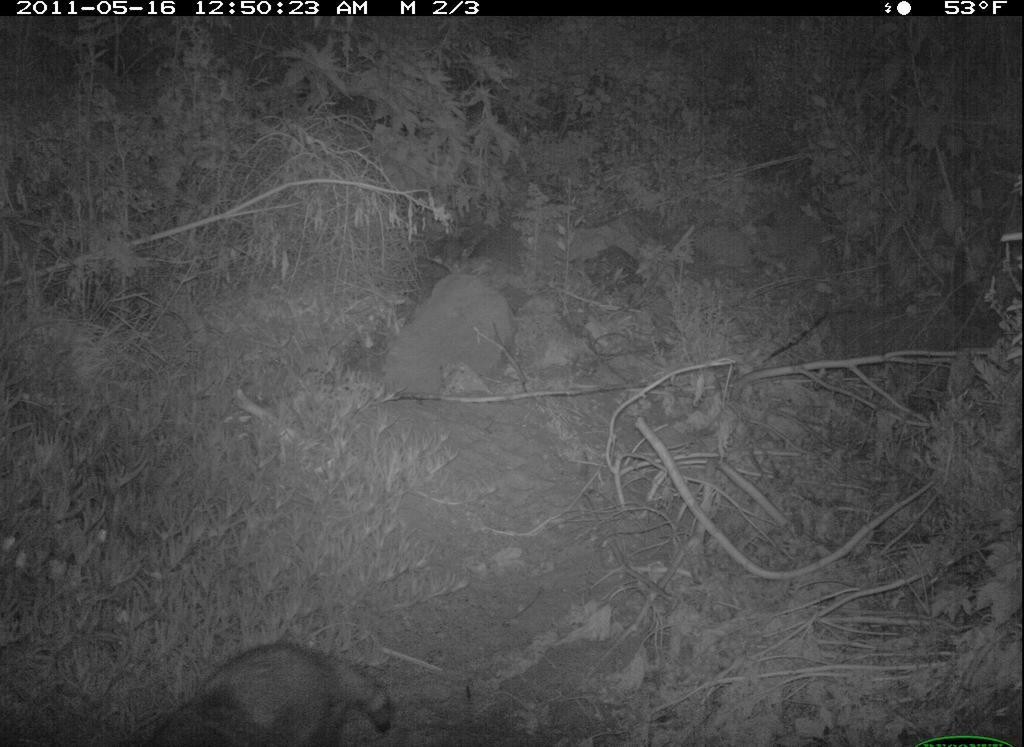raccoon: (144, 641, 390, 744)
